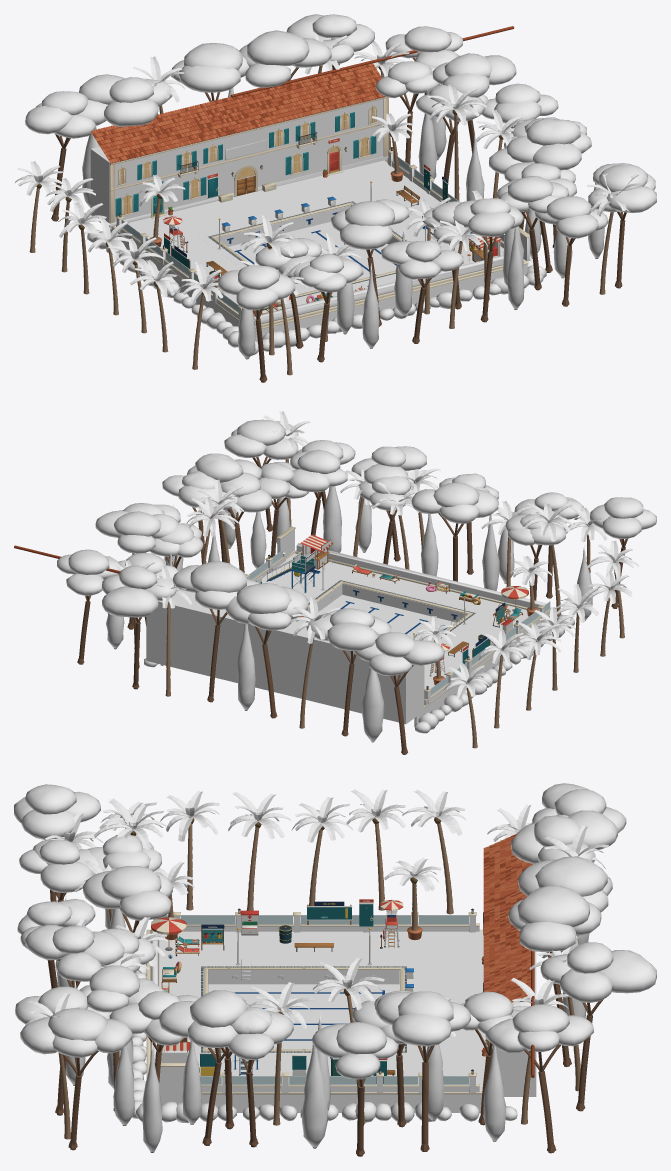
File: splash.glb
3 renders of one model, top to bottom at view 1: azimuth 30°, elevation 25°; view 2: azimuth 150°, elevation 25°; view 3: azimuth 270°, elevation 25°, orthographic. The views are drawn at different scales.
Parts seen in each view (by area): view 1: S_tile_pine, S_matte, S_cut, S_tile_stucco, S_tile_travertine, S_satin, S_tile_conifer, S_tile_hedge, S_tile_cobble, S_tile_glass_mosaic, S_satin_n, S_tile_mosaic_band (+6 smaller); view 2: S_tile_pine, S_tile_stucco, S_cut, S_matte, S_tile_conifer, S_tile_travertine, S_satin, S_tile_hedge, S_tile_glass_mosaic, S_tile_mosaic_band, S_glass, S_gloss (+1 smaller); view 3: S_tile_pine, S_matte, S_tile_travertine, S_cut, S_tile_conifer, S_satin, S_tile_stucco, S_tile_glass_mosaic, S_tile_hedge, S_glass, S_tile_mosaic_band, S_tile_cobble (+2 smaller).
Boxes of the visible parts, x1,y1,x2,y2 form: S_tile_pine: (25, 14, 656, 310); S_matte: (29, 26, 626, 382); S_cut: (15, 33, 640, 303); S_tile_stucco: (90, 99, 530, 320); S_tile_travertine: (112, 160, 527, 331); S_satin: (36, 97, 529, 330); S_tile_conifer: (82, 88, 604, 358); S_tile_hedge: (87, 229, 546, 355); S_tile_cobble: (109, 156, 527, 342); S_tile_glass_mosaic: (217, 205, 397, 293); S_satin_n: (116, 107, 471, 276); S_tile_mosaic_band: (197, 197, 415, 303); S_tile_pine: (57, 419, 656, 675); S_tile_stucco: (146, 529, 549, 723); S_cut: (115, 411, 638, 699); S_matte: (14, 456, 627, 754); S_tile_conifer: (106, 486, 592, 741); S_tile_travertine: (262, 553, 549, 708); S_satin: (246, 526, 550, 707); S_tile_hedge: (144, 543, 574, 733); S_tile_glass_mosaic: (308, 584, 466, 640); S_tile_mosaic_band: (307, 576, 485, 643); S_glass: (249, 549, 550, 694); S_gloss: (267, 551, 511, 634); S_tile_pine: (14, 783, 656, 1079); S_matte: (45, 816, 603, 1156); S_tile_travertine: (159, 931, 487, 1095); S_cut: (25, 789, 608, 1039); S_tile_conifer: (55, 894, 589, 1151); S_satin: (131, 819, 485, 1094); S_tile_stucco: (159, 864, 536, 1096); S_tile_glass_mosaic: (208, 970, 399, 1049); S_tile_hedge: (132, 921, 517, 1123); S_glass: (153, 916, 468, 1084); S_tile_mosaic_band: (191, 962, 416, 1056); S_tile_cobble: (160, 1096, 481, 1112).
Size of what is drawn, in the model's own units: 63.37 by 16.73 by 55.68.
